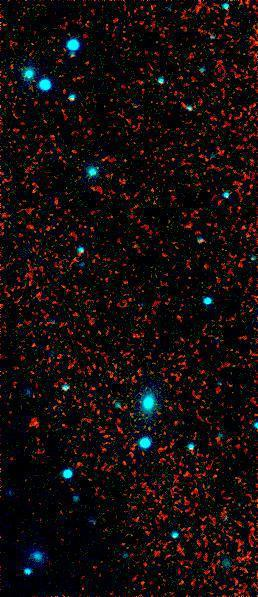star: (20, 406, 50, 436)
